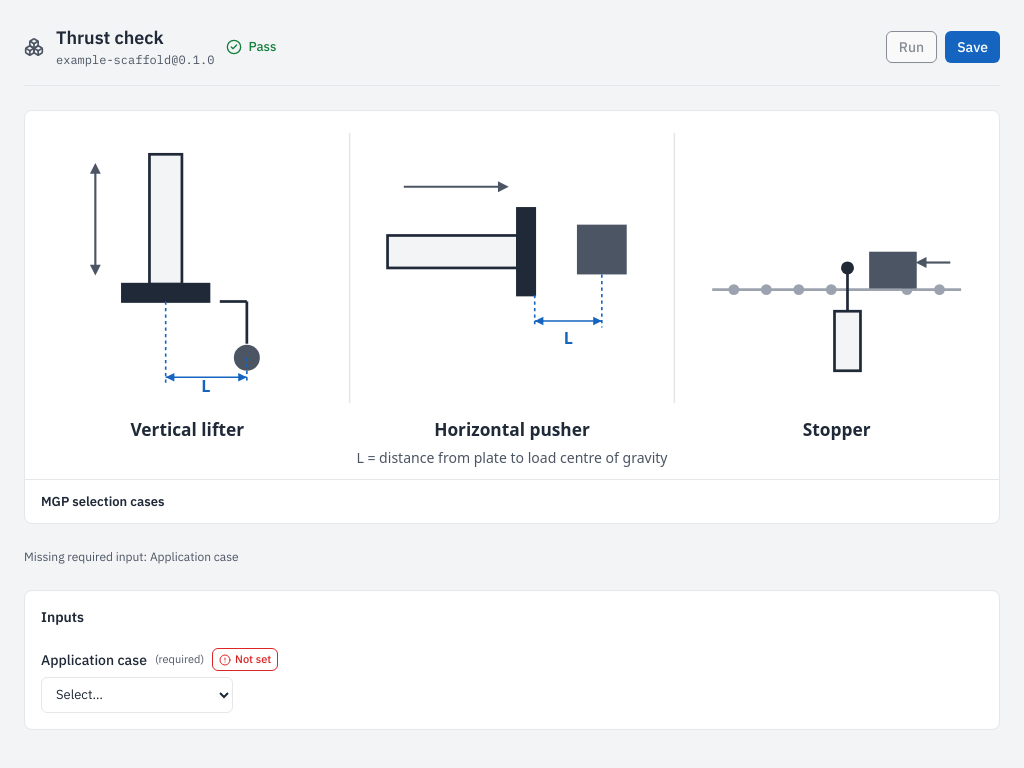
Test case: ModuleInputWorkspace › selects an application case by clicking its region in the callout illustration, instead of requiring the paired dropdown
Check: the button "Run" is disabled, box [886, 30, 937, 62]
Click the button named "Horizontal pusher".
click(512, 295)  # box [350, 111, 674, 479]
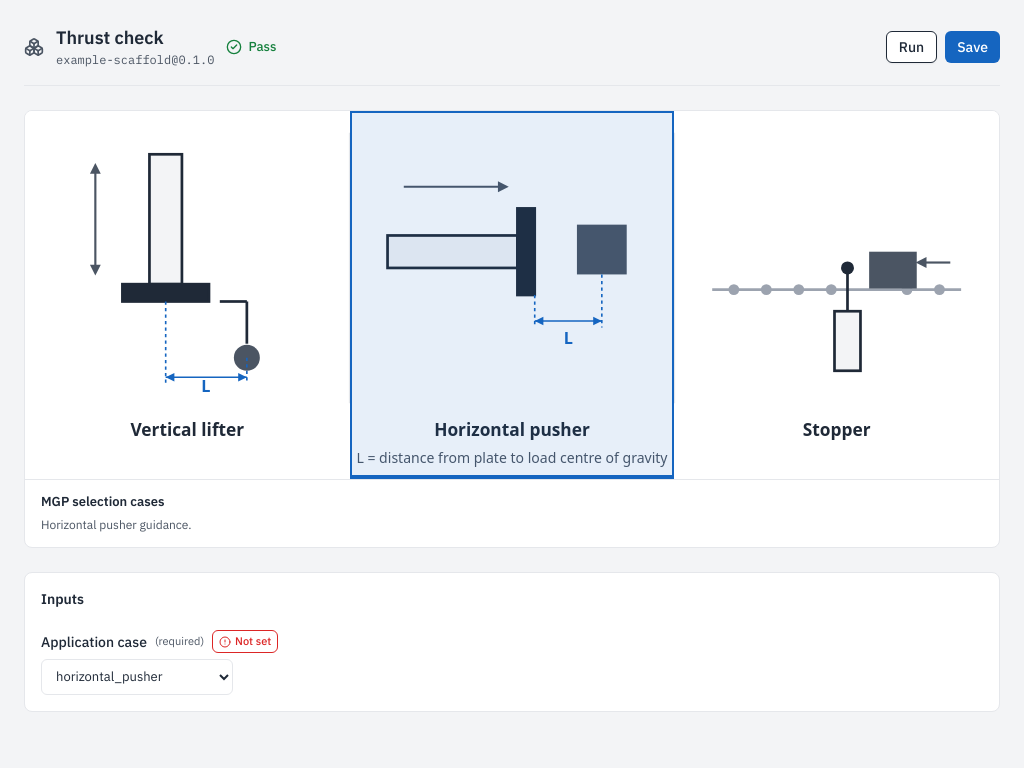
Check: the dropdown labelled "Application case" shows "horizontal_pusher", box [41, 659, 233, 695]
Check: the text "Horizontal pusher guidance." is shown, box [41, 518, 191, 532]
Check: the button "Run" is enabled, box [886, 30, 937, 62]
